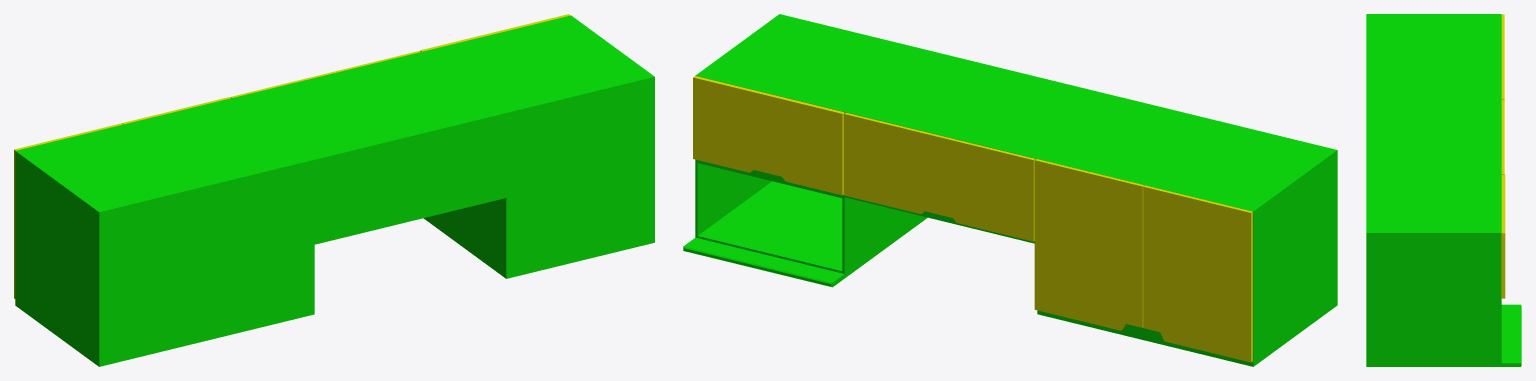
File: K_Mueble_Cocina_Repisas.fbx
3 renders of one model, left to right at view 1: azimuth 30°, elevation 25°; view 2: azimuth 150°, elevation 25°; view 3: azimuth 270°, elevation 25°, orthographic. The views are drawn at different scales.
Parts seen in each view (by area): view 1: K_1; view 2: K_1; view 3: K_1.
Boxes of the visible parts, box(x1,y1,x2,y2) form: K_1: box(14, 14, 654, 366); K_1: box(683, 14, 1337, 366); K_1: box(1366, 14, 1521, 366).
Bounding box in the file's own units: 271 × 77.41 × 81.42.
